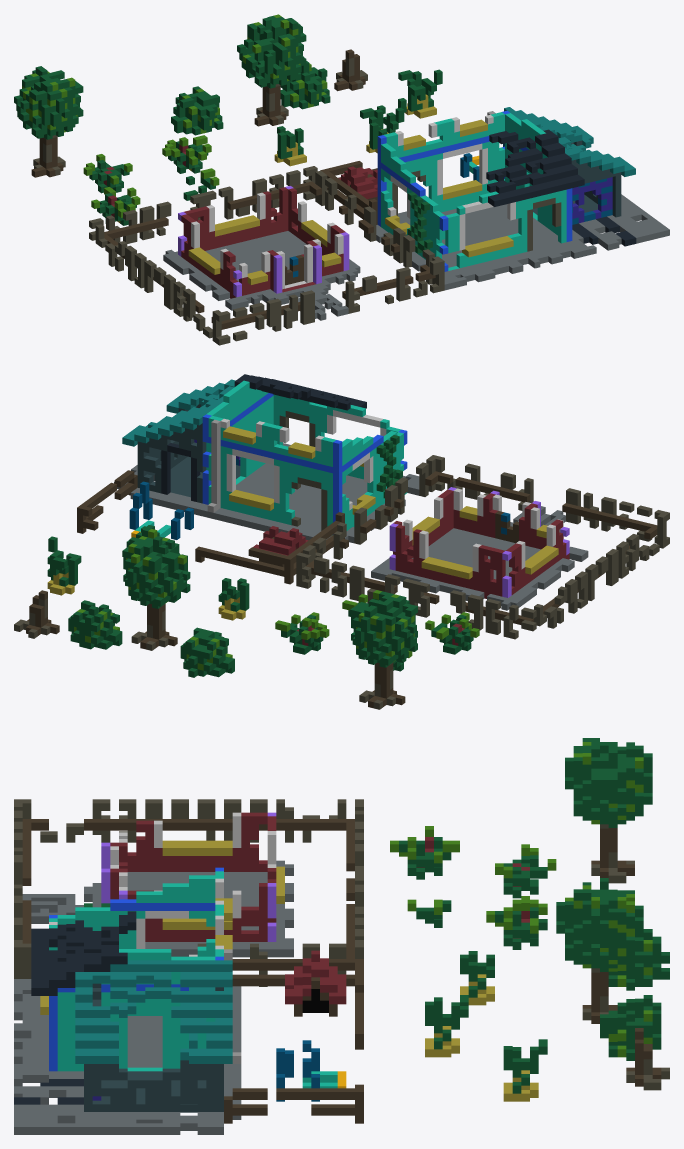
File: building_small_3_destroyed.obj
The picture shows the model from 3 angles, top to bottom: view 1: azimuth 30°, elevation 25°; view 2: azimuth 150°, elevation 25°; view 3: azimuth 270°, elevation 25°; orthographic projection. The views are drawn at different scales.
Bounding box in the file's own units: 8 × 1.7 × 7.5.
Materials: 1 (1 with a texture image).
